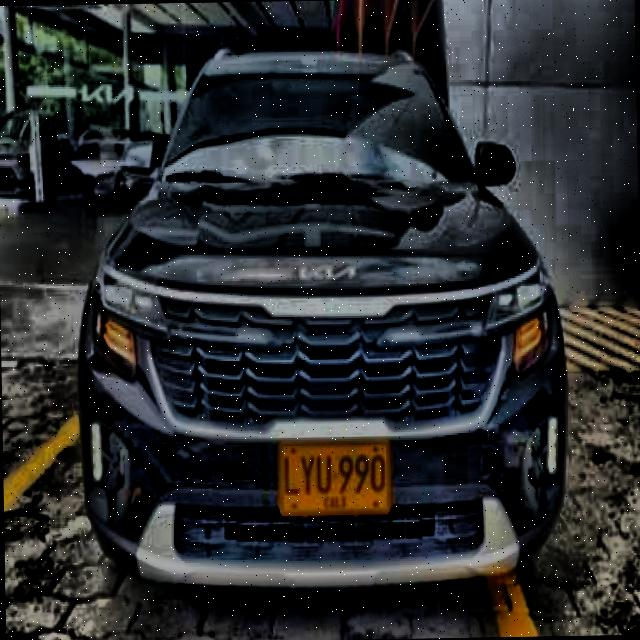plate: (280, 442, 390, 514)
